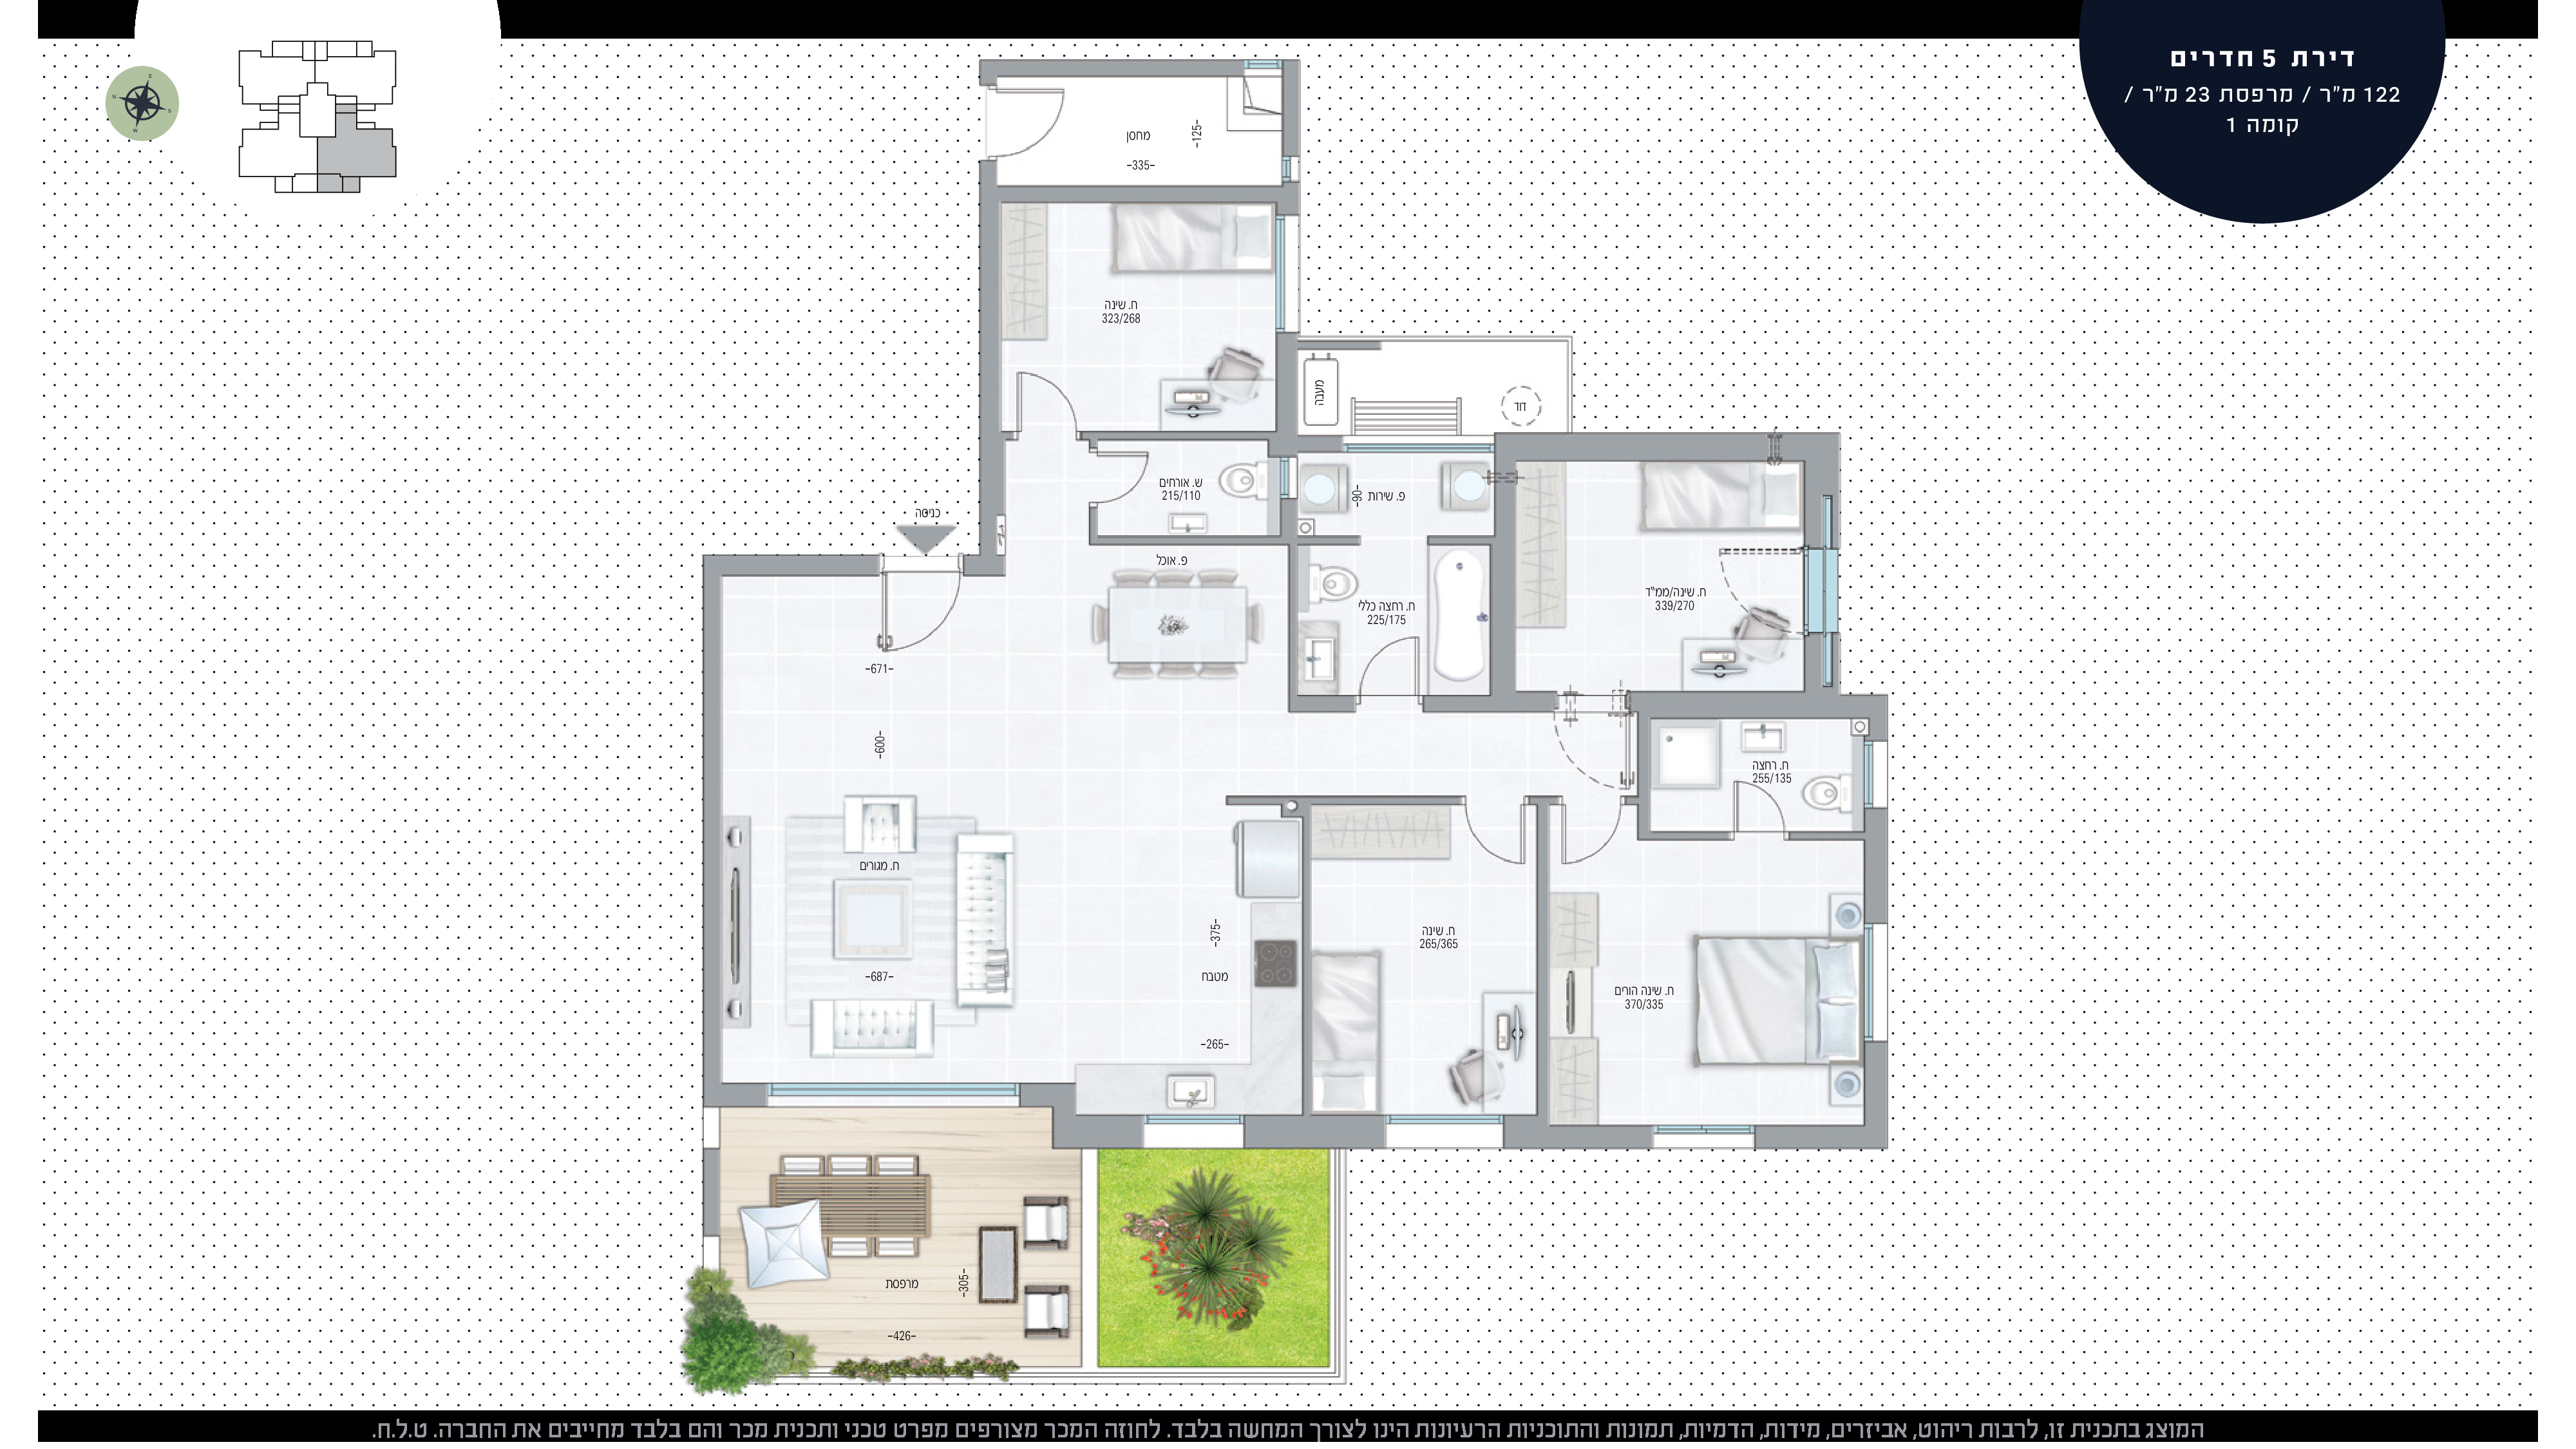door: (870, 579, 966, 655), (1001, 83, 1070, 161), (1010, 354, 1079, 432), (1357, 630, 1426, 692), (1460, 803, 1529, 865), (1557, 809, 1626, 869), (1727, 770, 1796, 830), (1099, 446, 1157, 506)
wall: (706, 554, 724, 1106), (1495, 433, 1835, 462), (1495, 465, 1514, 711)
window: (766, 1085, 1021, 1104), (1382, 1113, 1506, 1150), (1138, 1113, 1246, 1148), (1861, 920, 1890, 1044), (1274, 214, 1299, 333), (1652, 1123, 1753, 1148), (1861, 740, 1888, 807), (1279, 453, 1299, 497), (1279, 156, 1300, 182)
